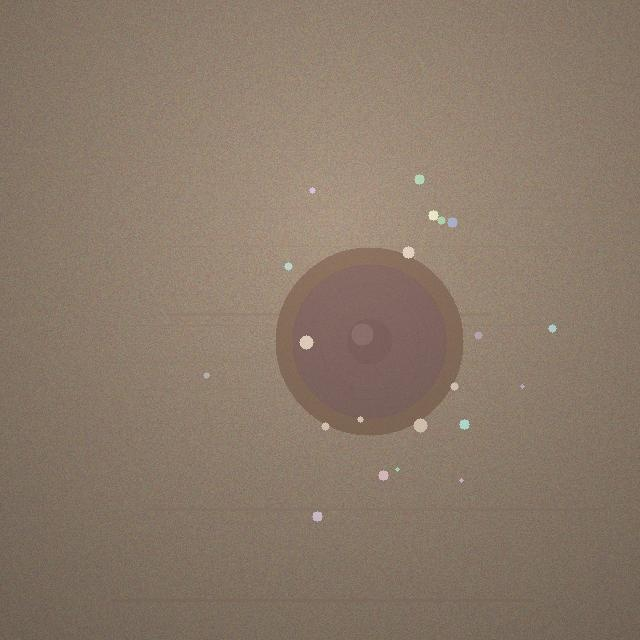overburn: (275, 247, 463, 435)
